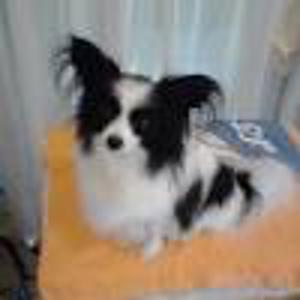yell: (51, 32, 297, 262)
